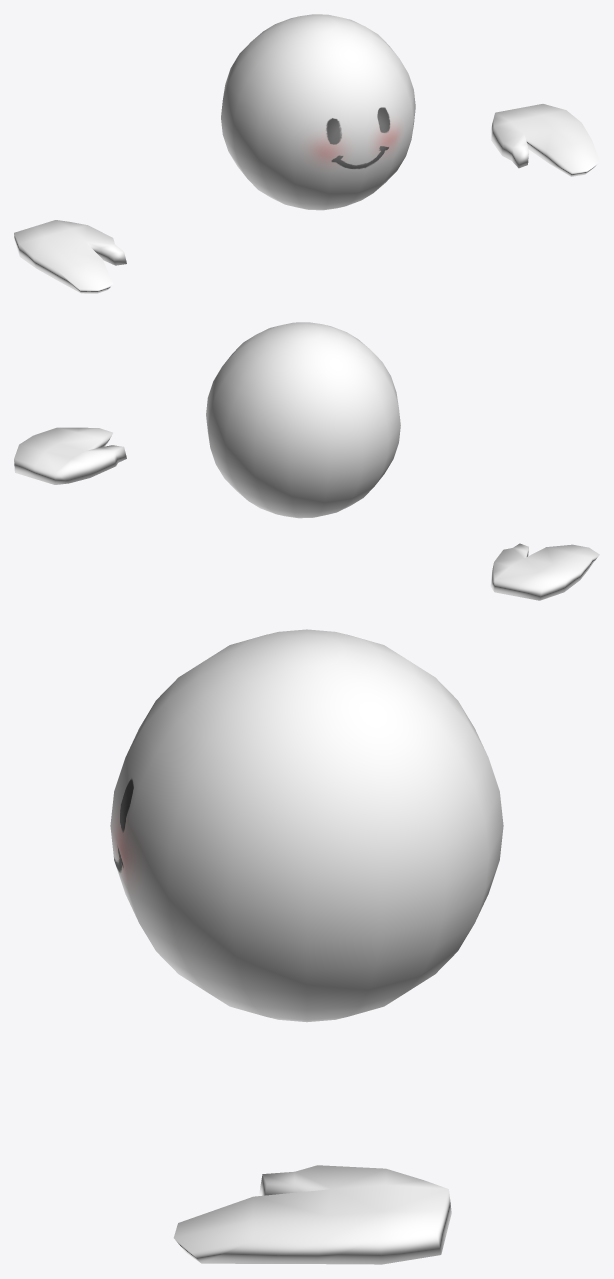
The model's file is playerAvatar.fbx.
The picture shows the model from 3 angles, top to bottom: view 1: azimuth 30°, elevation 25°; view 2: azimuth 150°, elevation 25°; view 3: azimuth 270°, elevation 25°; orthographic projection. The views are drawn at different scales.
Parts seen in each view (by area): view 1: head, handR, handL; view 2: head, handL, handR; view 3: head, handL.
Boxes of the visible parts, x1,y1,x2,y2 form: head: (221,14,415,210); handR: (14,220,126,293); handL: (490,104,599,176); head: (206,322,400,518); handL: (14,427,126,484); handR: (490,543,599,600); head: (110,629,503,1022); handL: (173,1165,451,1264).
Size of the model in its own units: 132 by 43.21 by 41.09.
1 material, 1 textured.
